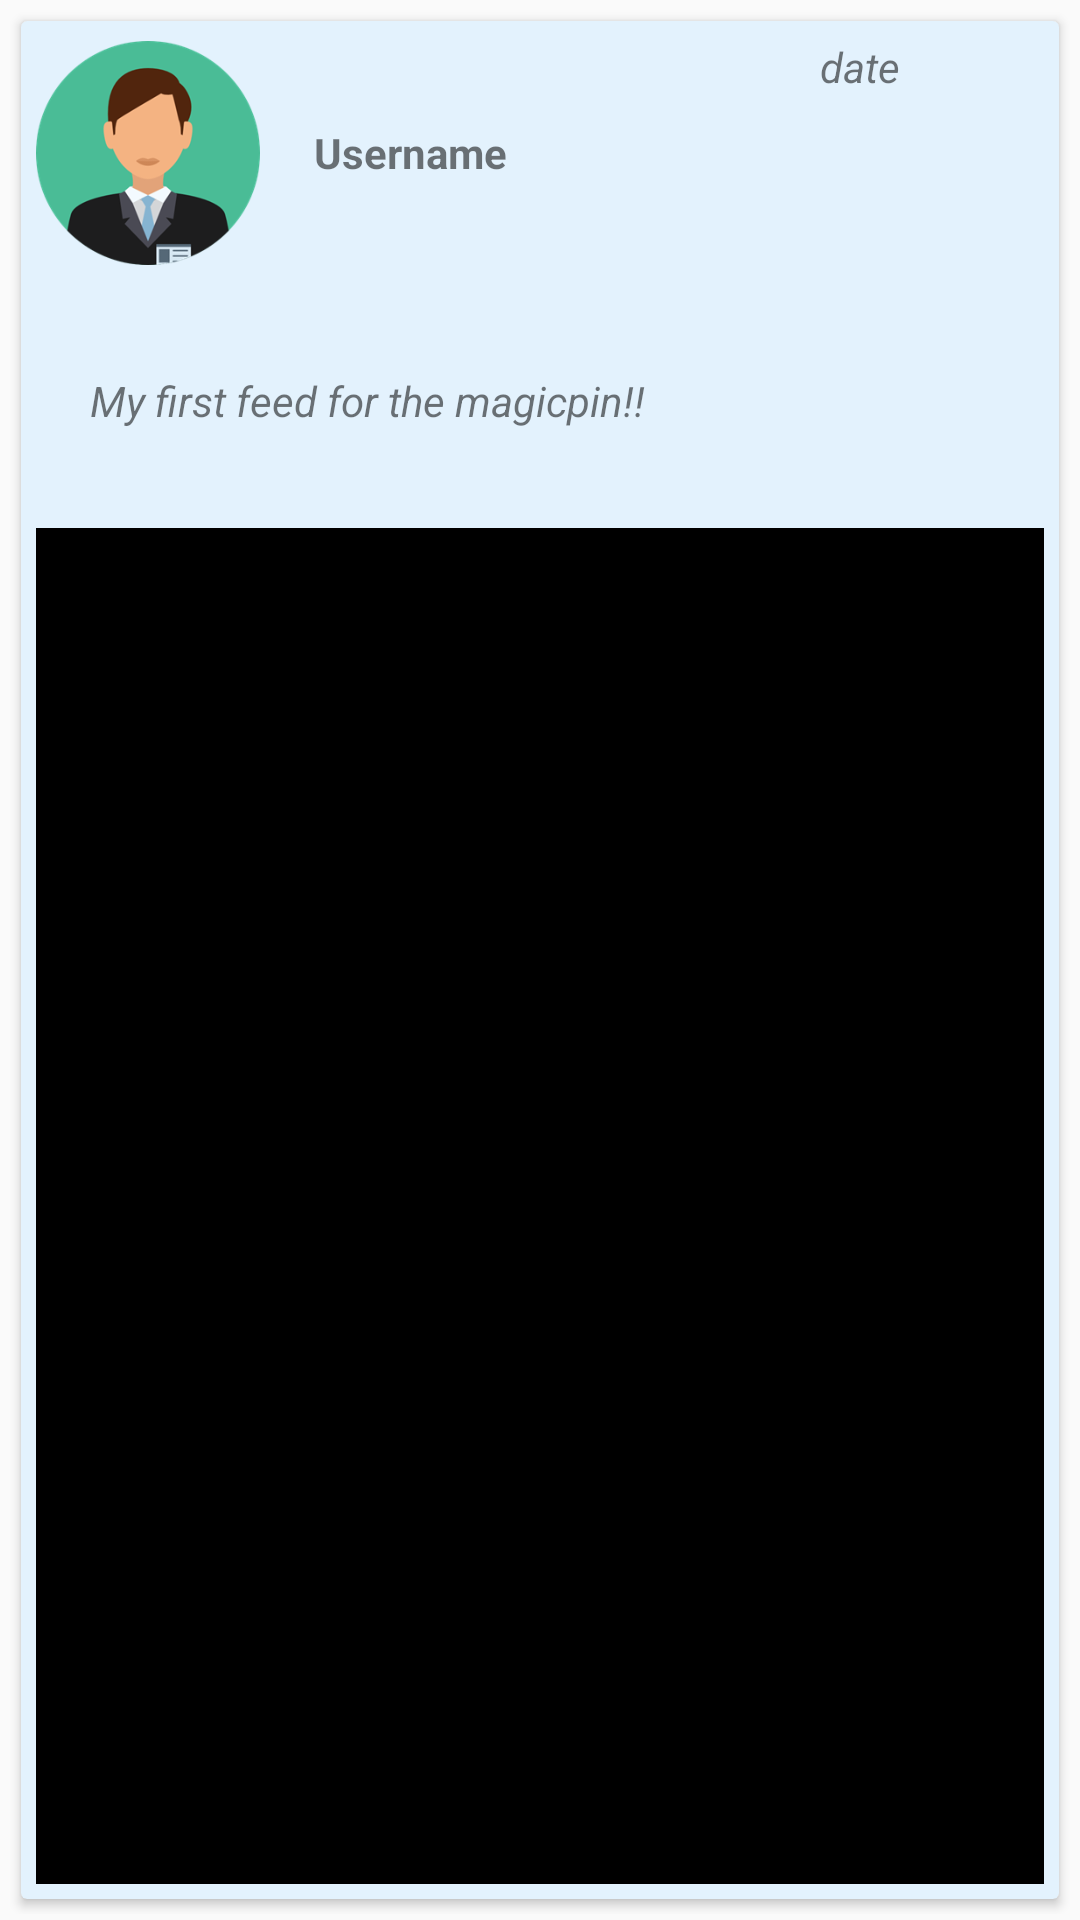

Named icons in this screenshot (1080 x 1920) and their bounding boxes, detection(x1, y1, x2, y2):
profile: detection(36, 41, 260, 265)
